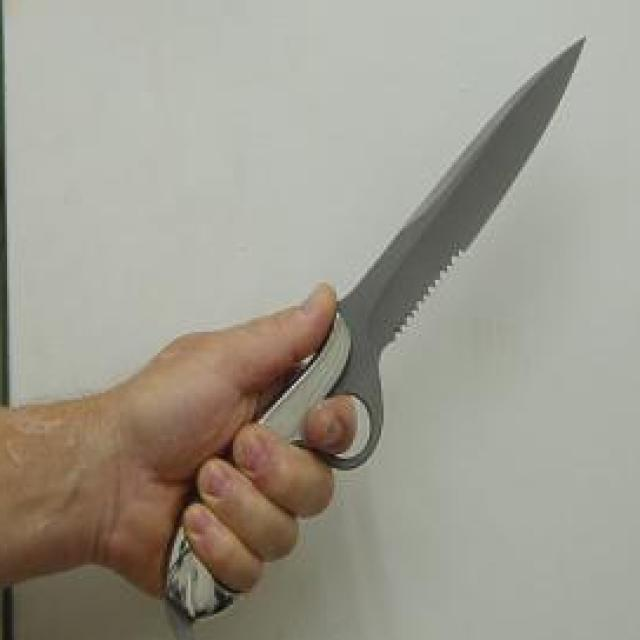knife: (180, 23, 593, 544)
